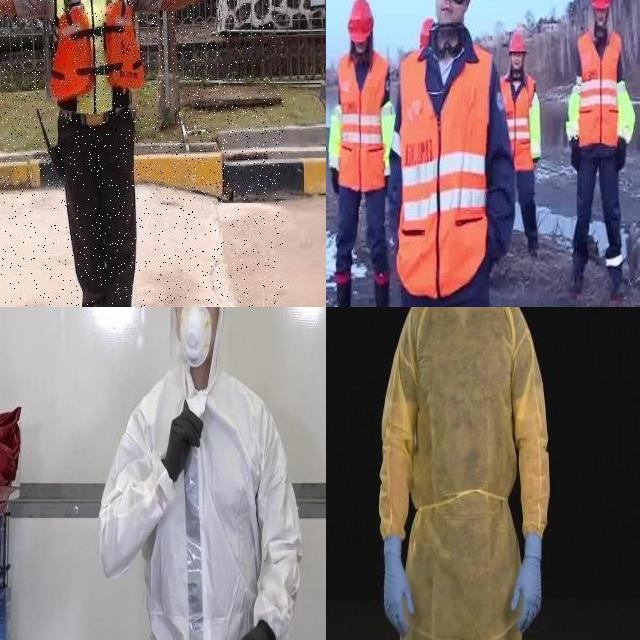Glove: (374, 532, 414, 637), (164, 409, 204, 484), (516, 532, 544, 634), (233, 619, 276, 640)
HELMET: (345, 0, 373, 40), (509, 29, 527, 56), (420, 16, 434, 42), (589, 0, 611, 12)
MASK: (178, 307, 211, 370)
VEST: (396, 41, 488, 296), (49, 0, 149, 116), (337, 48, 388, 193), (576, 27, 622, 152), (499, 73, 537, 173)
